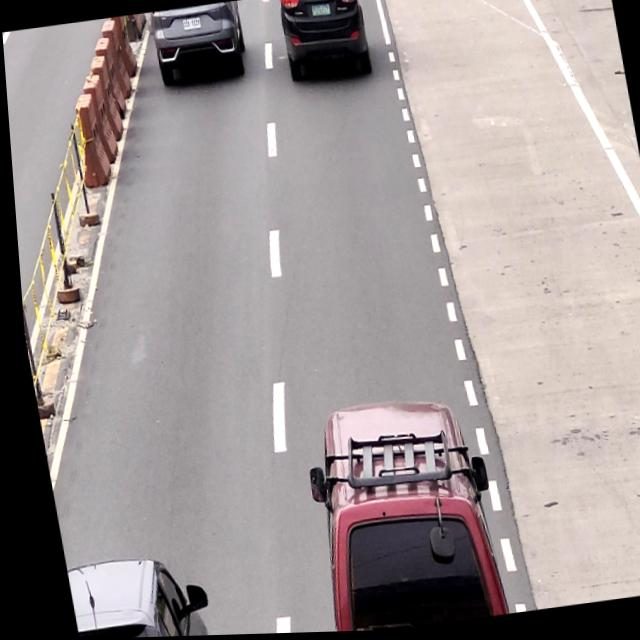Car: (298, 394, 500, 634), (57, 555, 199, 639), (273, 0, 373, 88), (145, 1, 249, 83)
License-Plate: (309, 5, 332, 19), (181, 18, 201, 32)
